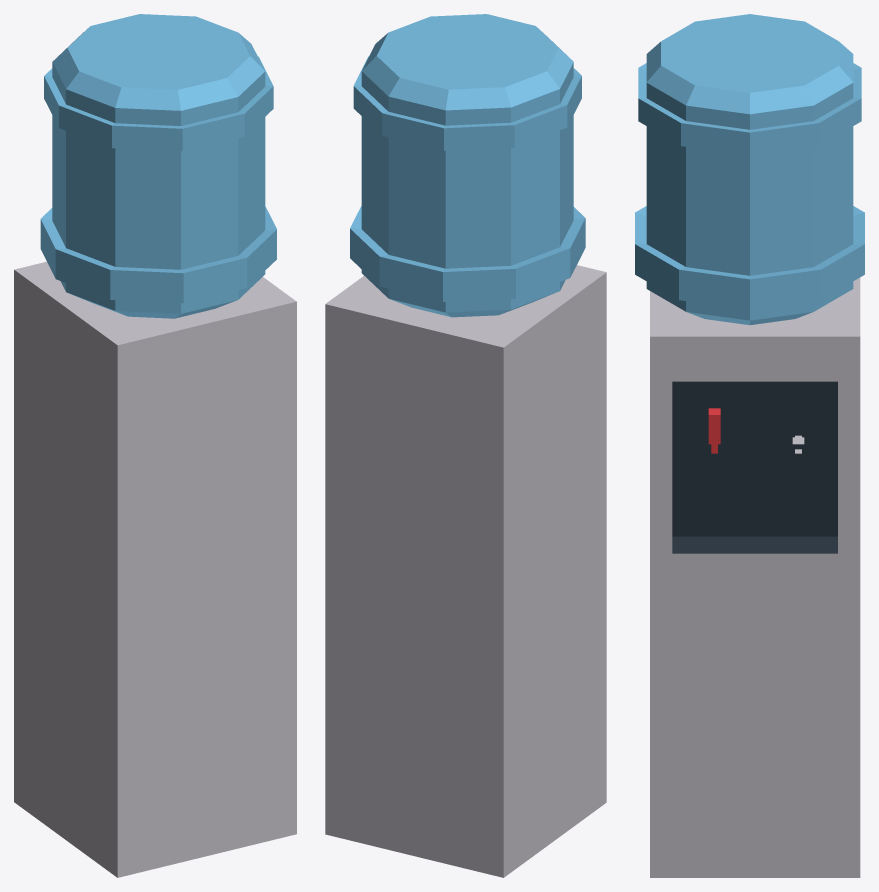
The model's file is Water_Despencer.fbx.
The picture shows the model from 3 angles, left to right: view 1: azimuth 30°, elevation 25°; view 2: azimuth 150°, elevation 25°; view 3: azimuth 270°, elevation 25°; orthographic projection. The views are drawn at different scales.
Parts seen in each view (by area): view 1: water despencer; view 2: water despencer; view 3: water despencer.
Part boxes in pixels (left/top/right/bottom): water despencer: left=14, top=14, right=296, bottom=877; water despencer: left=325, top=14, right=606, bottom=877; water despencer: left=635, top=14, right=864, bottom=877.
Size of the model in its own units: 46.3 by 165 by 44.03.
